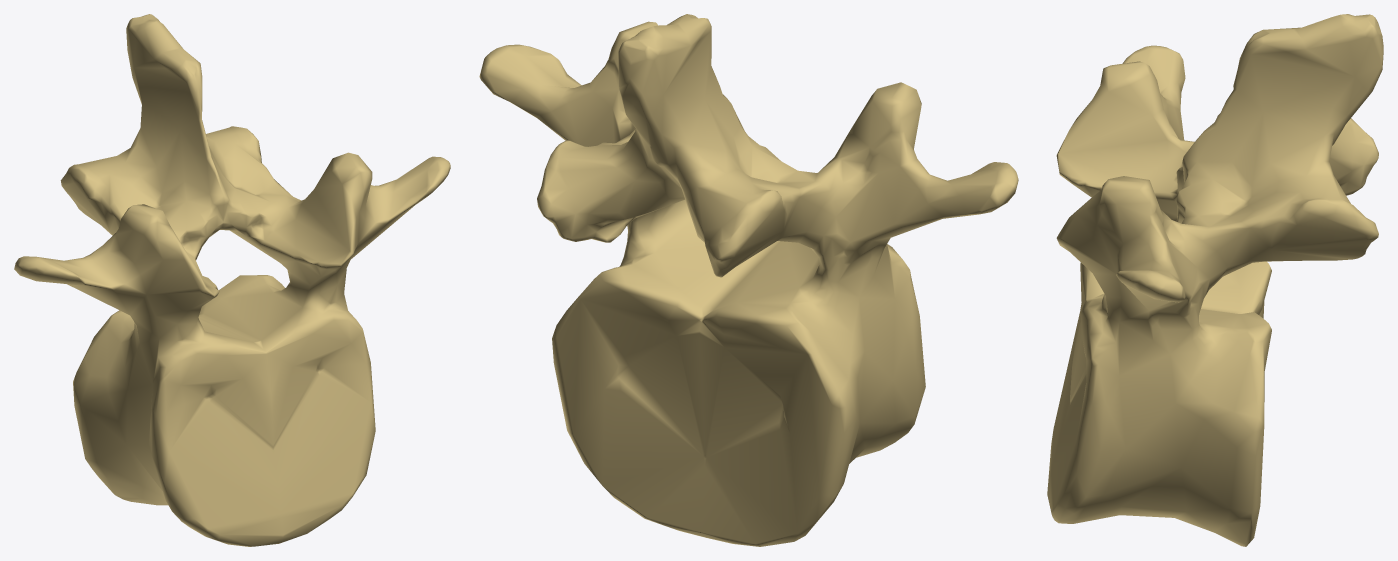
The picture shows the model from 3 angles, left to right: view 1: azimuth 30°, elevation 25°; view 2: azimuth 150°, elevation 25°; view 3: azimuth 270°, elevation 25°; orthographic projection. The views are drawn at different scales.
Visible parts, largest first — view 1: 第二腰椎; view 2: 第二腰椎; view 3: 第二腰椎.
Part boxes in pixels (x1,y1,x2,y2): 第二腰椎: (14,14,450,546); 第二腰椎: (479,14,1018,546); 第二腰椎: (1047,14,1383,546).
Size of the model in its own units: 0.1235 by 0.1224 by 0.0733.
